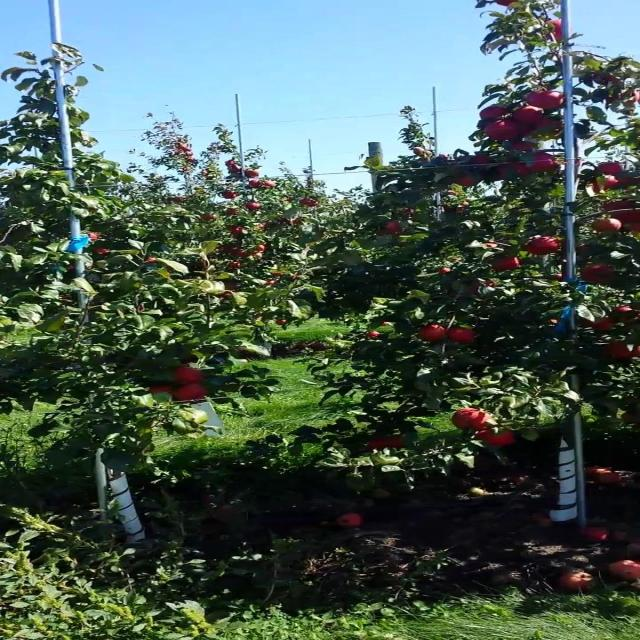apple: (483, 120, 517, 142), (525, 120, 564, 138), (525, 92, 565, 109), (476, 432, 517, 448), (596, 176, 635, 192), (518, 100, 548, 120), (454, 412, 487, 430), (532, 236, 562, 255), (518, 120, 548, 139), (369, 436, 405, 451), (611, 204, 639, 223), (582, 268, 615, 284), (532, 152, 558, 172), (497, 164, 530, 179), (447, 328, 476, 344), (177, 384, 206, 400), (177, 368, 206, 384), (518, 108, 546, 123), (468, 412, 491, 430), (611, 344, 638, 359), (419, 328, 448, 341), (611, 92, 639, 105), (596, 164, 626, 176), (483, 108, 512, 120), (604, 200, 635, 211), (596, 220, 622, 233), (468, 284, 496, 296), (525, 244, 553, 256), (504, 164, 530, 176), (589, 320, 617, 331), (618, 308, 638, 323), (625, 216, 639, 236), (554, 20, 567, 40), (497, 260, 519, 271), (383, 224, 405, 235), (148, 388, 176, 396), (618, 212, 638, 223), (596, 76, 622, 84), (461, 176, 478, 188), (511, 144, 535, 152), (148, 388, 176, 394), (625, 412, 638, 424), (477, 156, 492, 165), (499, 4, 510, 7)
